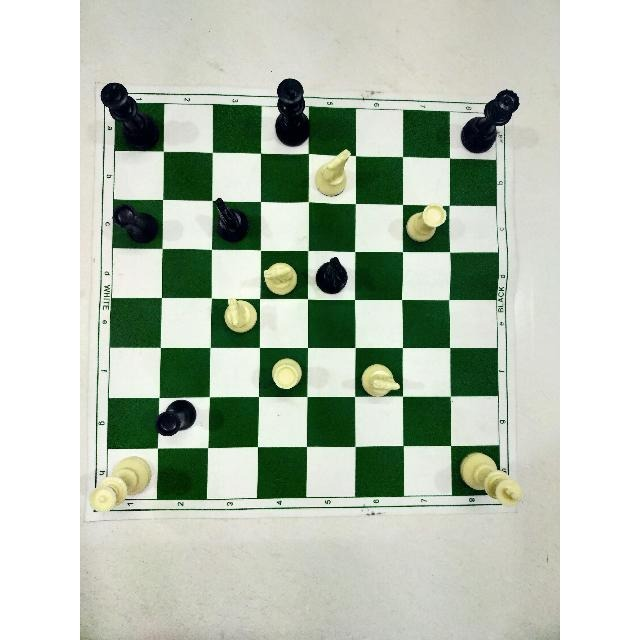black-king: (98, 80, 162, 153), (273, 75, 313, 148)
black-knight: (212, 195, 251, 245), (315, 255, 349, 296)
black-queen: (459, 86, 523, 156)
black-rook: (110, 202, 160, 245), (153, 398, 197, 437)
white-king: (458, 450, 524, 508)
white-knight: (313, 147, 353, 198), (359, 362, 401, 399), (222, 295, 259, 334), (262, 261, 298, 297)
white-queen: (86, 454, 154, 514)
white-rook: (404, 201, 448, 245), (270, 356, 304, 391)
